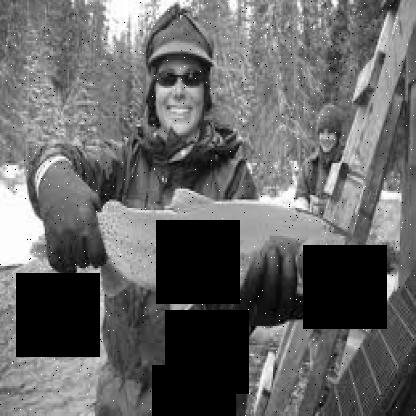fish: (23, 189, 372, 325)
